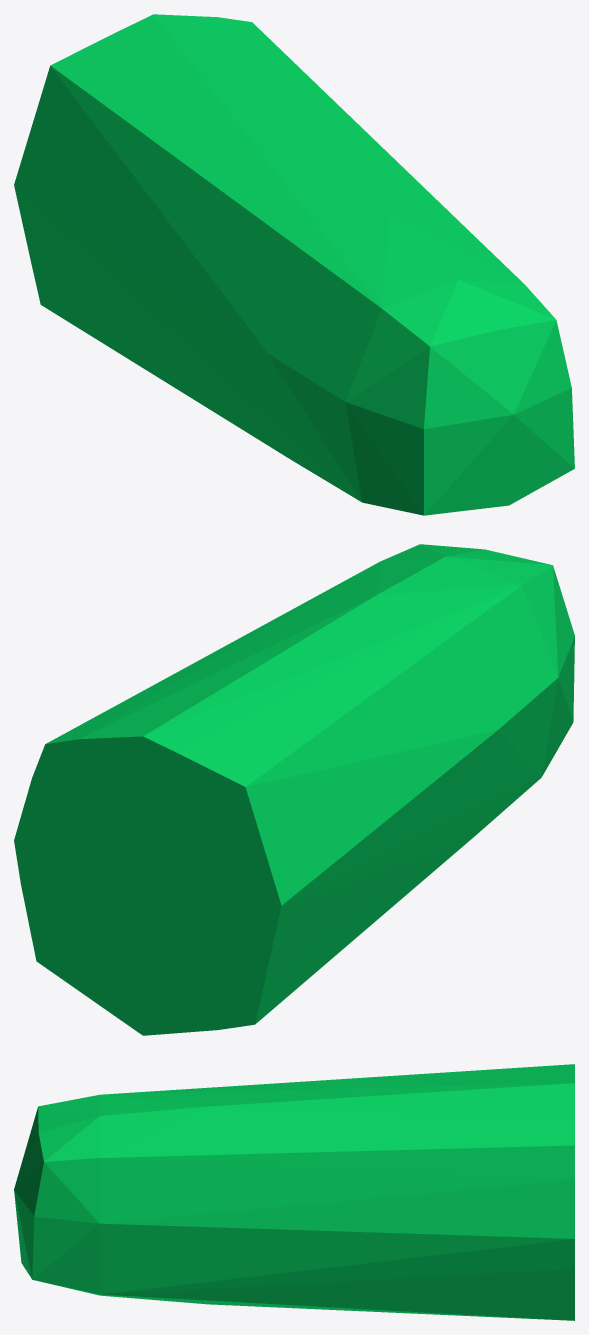
The picture shows the model from 3 angles, top to bottom: view 1: azimuth 30°, elevation 25°; view 2: azimuth 150°, elevation 25°; view 3: azimuth 270°, elevation 25°; orthographic projection. The views are drawn at different scales.
Size of the model in its own units: 1.98 by 2.12 by 4.59.
